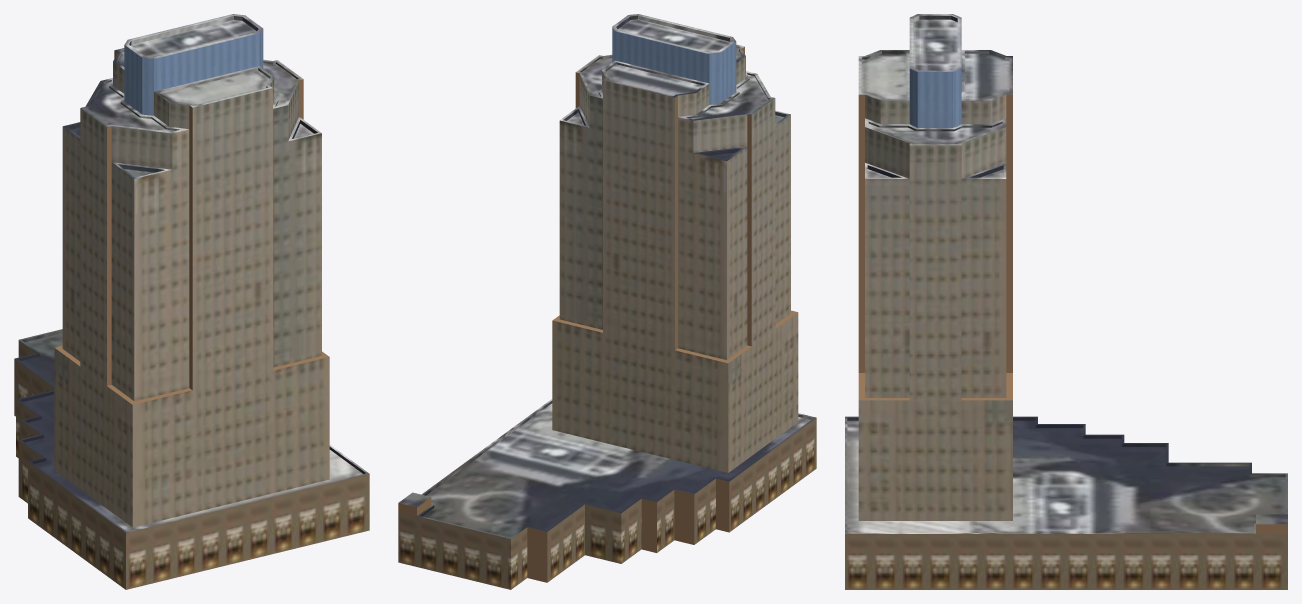
File: international_commerce_building_building_dd7a83ff.glb
3 views of the same model, side by side, from view 1: azimuth 30°, elevation 25°; view 2: azimuth 150°, elevation 25°; view 3: azimuth 270°, elevation 25° (orthographic). The views are drawn at different scales.
Visible parts, largest first — view 1: international_commerce_building_building_dd7a83ff; view 2: international_commerce_building_building_dd7a83ff; view 3: international_commerce_building_building_dd7a83ff.
Boxes of the visible parts, x1,y1,x2,y2 form: international_commerce_building_building_dd7a83ff: (14,14,369,589); international_commerce_building_building_dd7a83ff: (398,14,816,589); international_commerce_building_building_dd7a83ff: (845,14,1287,589).
Bounding box in the file's own units: 51.92 × 100 × 82.98.
1 material, 1 textured.
